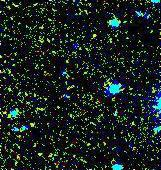star: (25, 141, 55, 170)
